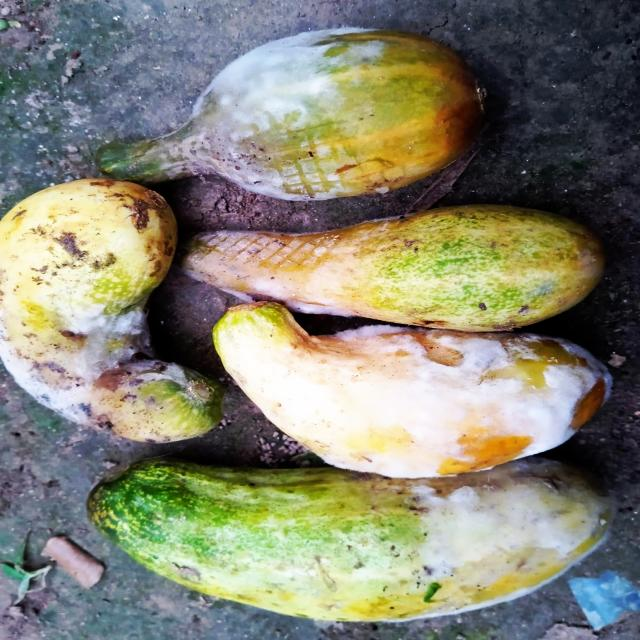Pythium-Fruit-Rot: (218, 261, 614, 480), (189, 18, 401, 210), (381, 467, 623, 626), (1, 280, 206, 438)
